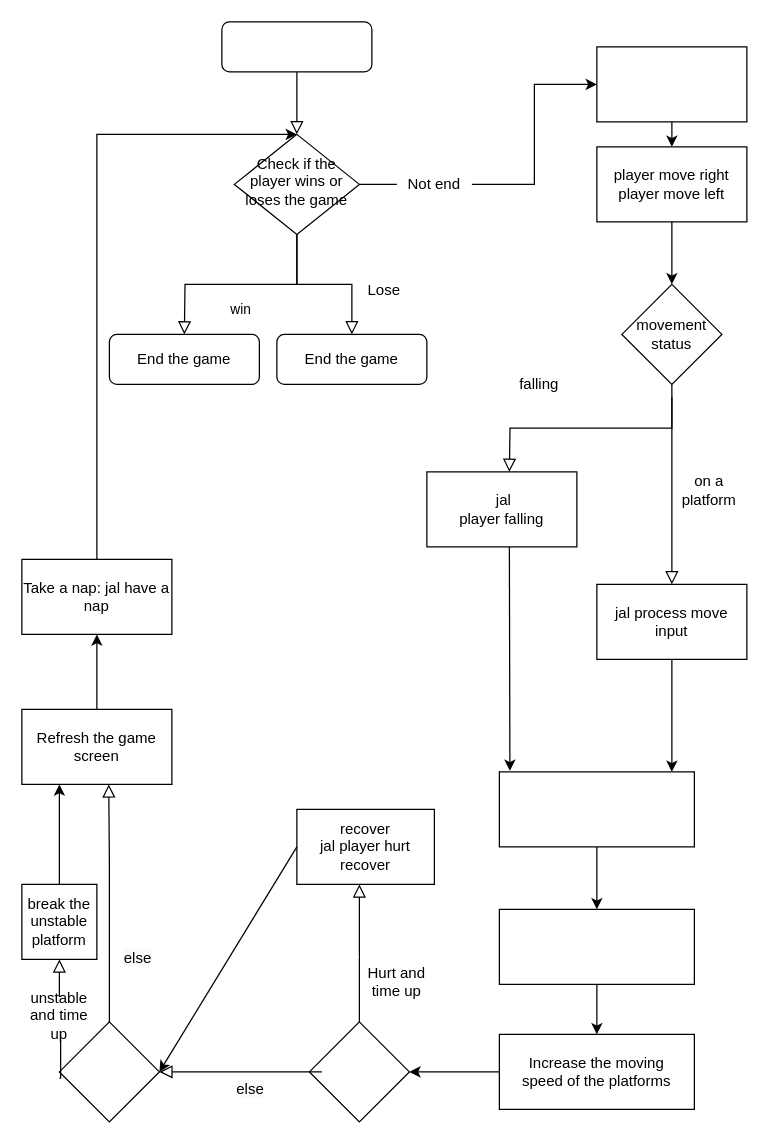
Image size: 769x1144. Some labels were removed from this diagram. The box of each missing label's shape, as (x1, y1, x2, y2) in pixels:
Check the player hurt status: (308, 1021, 409, 1122)
Check the status: (58, 1021, 159, 1122)
Destroy and generate a new platform when needed: (498, 771, 694, 847)
Get the current time: jar get time.: (596, 46, 747, 122)
Move the platforms upward.: (498, 908, 694, 984)
Start: (221, 21, 372, 72)
